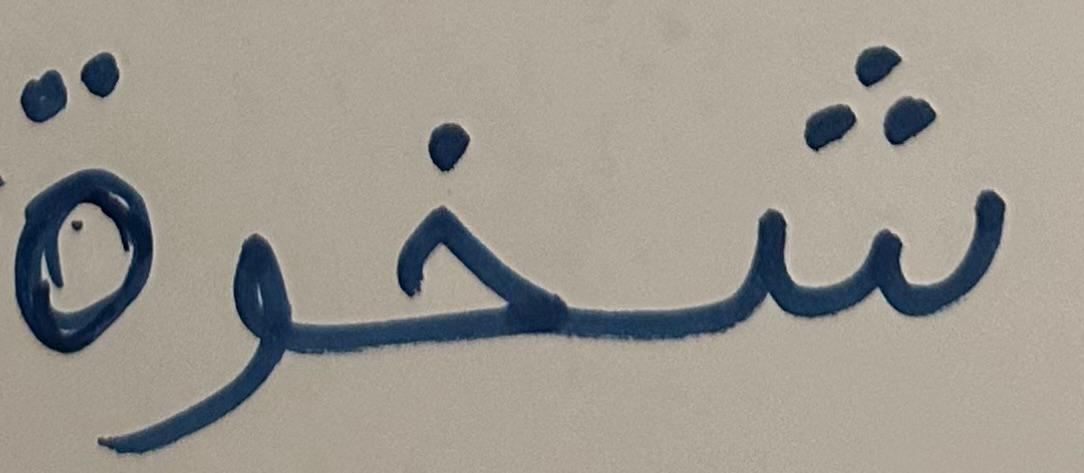lam: (335, 59, 640, 417)
tah: (644, 16, 1060, 406)
thal: (6, 32, 160, 373)
yeh: (164, 177, 330, 449)
